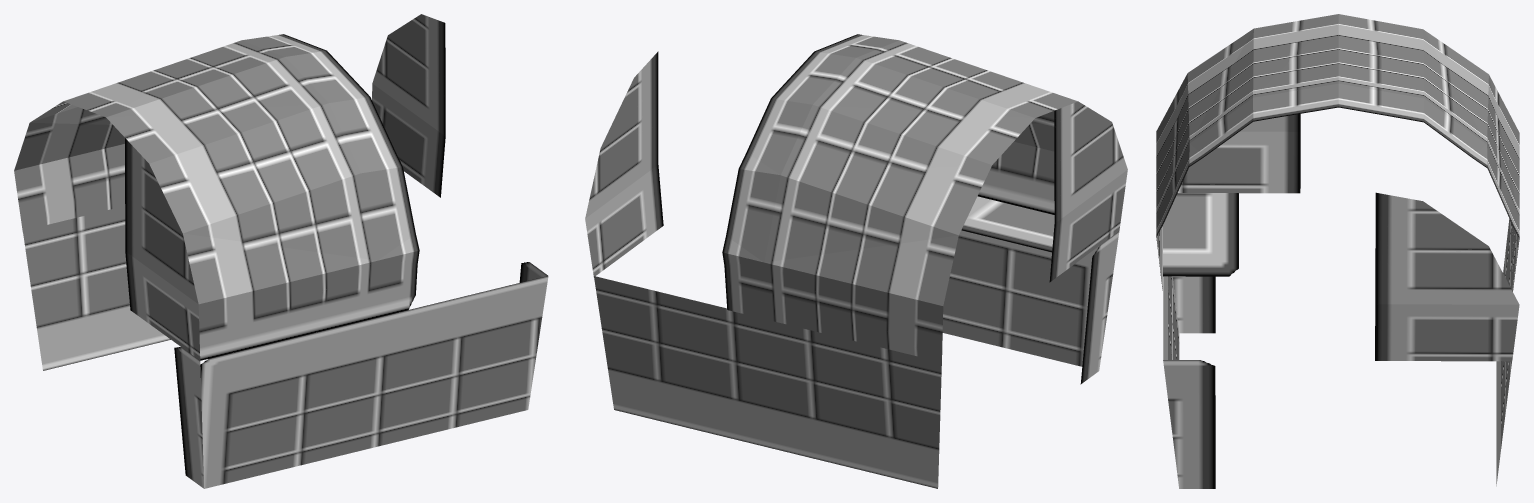
Rendered from magical_chest.obj.
3 views of the same model, side by side, from view 1: azimuth 30°, elevation 25°; view 2: azimuth 150°, elevation 25°; view 3: azimuth 270°, elevation 25° (orthographic).
Visible parts, largest first — view 1: mesh; view 2: mesh; view 3: mesh.
Part boxes in pixels (x1=…): mesh: x1=14, y1=14, x2=548, y2=488; mesh: x1=585, y1=34, x2=1127, y2=488; mesh: x1=1156, y1=14, x2=1519, y2=488.
Size of the model in its own units: 56.49 by 50.19 by 50.42.
